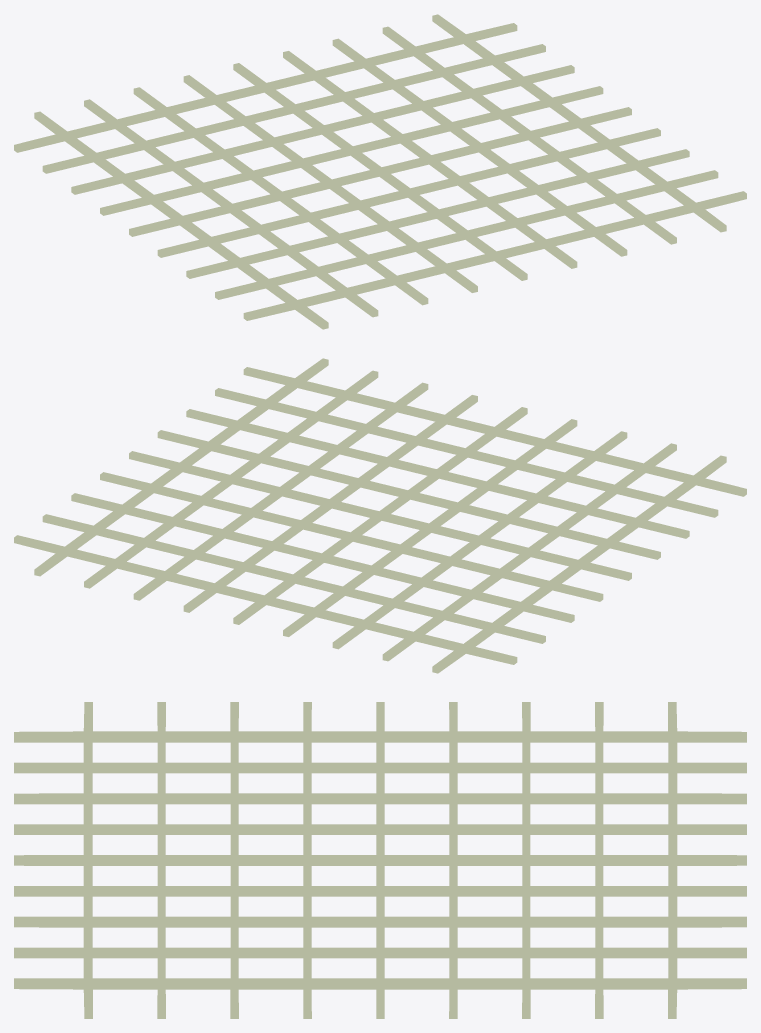
Rendered from grate.dae.
The picture shows the model from 3 angles, top to bottom: view 1: azimuth 30°, elevation 25°; view 2: azimuth 150°, elevation 25°; view 3: azimuth 270°, elevation 25°; orthographic projection. The views are drawn at different scales.
Parts seen in each view (by area): view 1: grid3_extract4-0; view 2: grid3_extract4-0; view 3: grid3_extract4-0.
Part boxes in pixels (left/top/right/bottom): grid3_extract4-0: left=14, top=14, right=746, bottom=329; grid3_extract4-0: left=14, top=358, right=746, bottom=673; grid3_extract4-0: left=14, top=702, right=746, bottom=1018.
Bounding box in the file's own units: 643 × 7.08 × 643.
